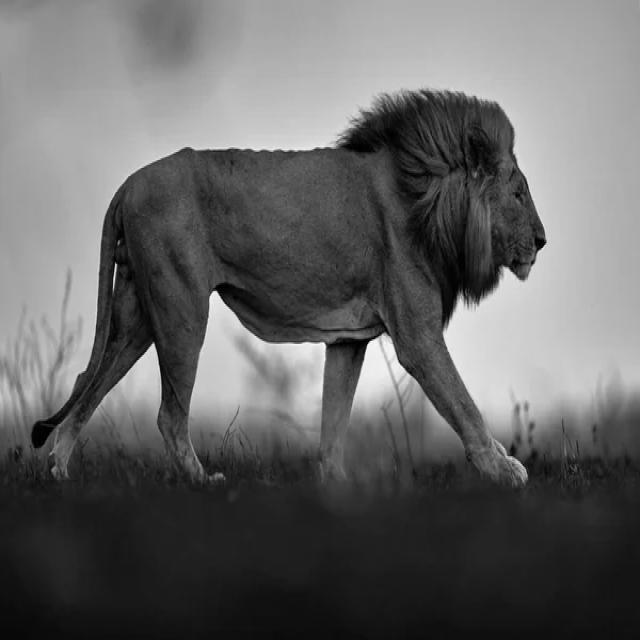Animal: (32, 91, 546, 486)
